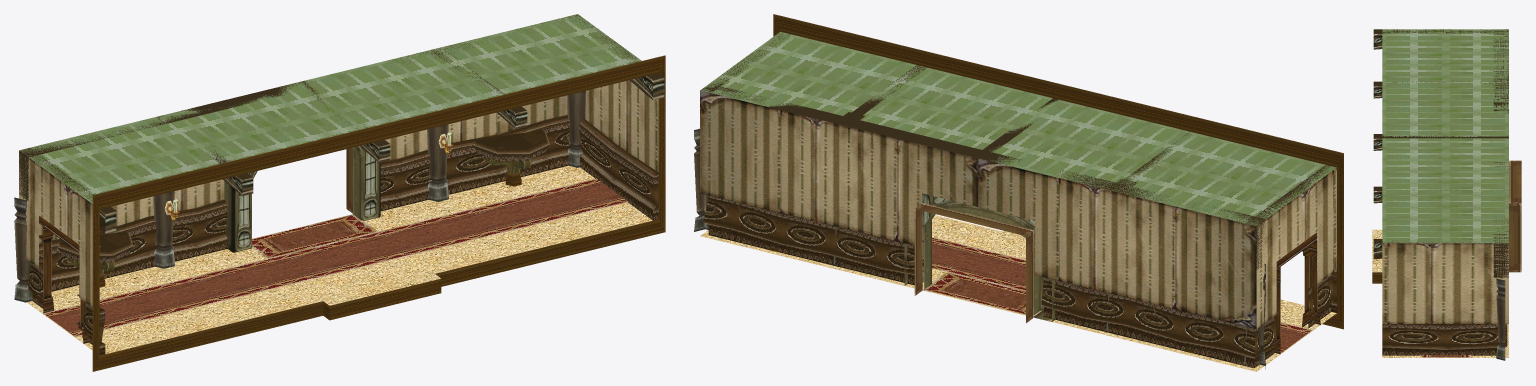
The model's file is room-2.glb.
The picture shows the model from 3 angles, left to right: view 1: azimuth 30°, elevation 25°; view 2: azimuth 150°, elevation 25°; view 3: azimuth 270°, elevation 25°; orthographic projection. The views are drawn at different scales.
Parts seen in each view (by area): view 1: room.; view 2: room.; view 3: room..
Part boxes in pixels (<box>): room.: <box>14,14,665,371</box>; room.: <box>694,14,1343,371</box>; room.: <box>1372,29,1521,360</box>.
Bounding box in the file's own units: 2055 × 605 × 590.
21 materials, 21 textured.
